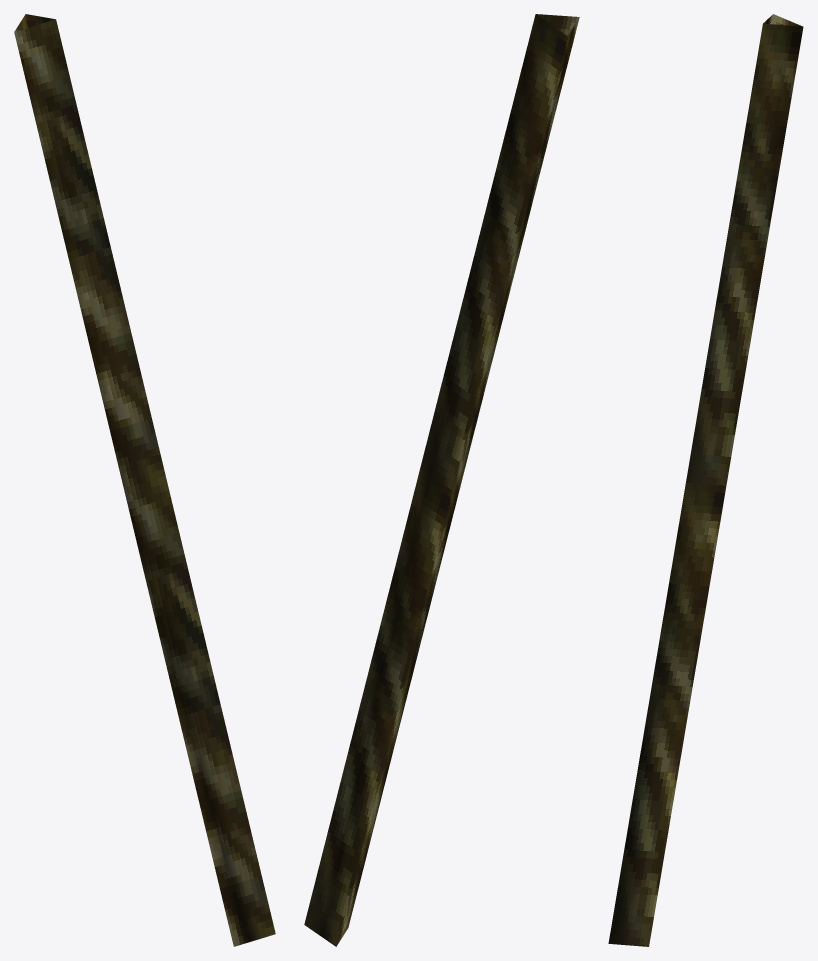
Rendered from OVERHILL_A_01_ROPE_LINE_10.fbx.
3 renders of one model, left to right at view 1: azimuth 30°, elevation 25°; view 2: azimuth 210°, elevation 25°; view 3: azimuth 270°, elevation 25°, orthographic. The views are drawn at different scales.
Visible parts, largest first — view 1: OVERHILL_A_01_ROPE_LINE_10; view 2: OVERHILL_A_01_ROPE_LINE_10; view 3: OVERHILL_A_01_ROPE_LINE_10.
Boxes of the visible parts, left/top/right/bottom form: OVERHILL_A_01_ROPE_LINE_10: left=14, top=14, right=275, bottom=946; OVERHILL_A_01_ROPE_LINE_10: left=304, top=14, right=579, bottom=946; OVERHILL_A_01_ROPE_LINE_10: left=608, top=14, right=803, bottom=946.
Bounding box in the file's own units: 2162 × 10549 × 2162.
1 material, 1 textured.
